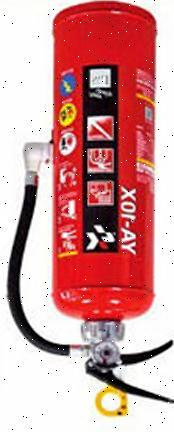Fire Extinguisher: (7, 6, 174, 422)
